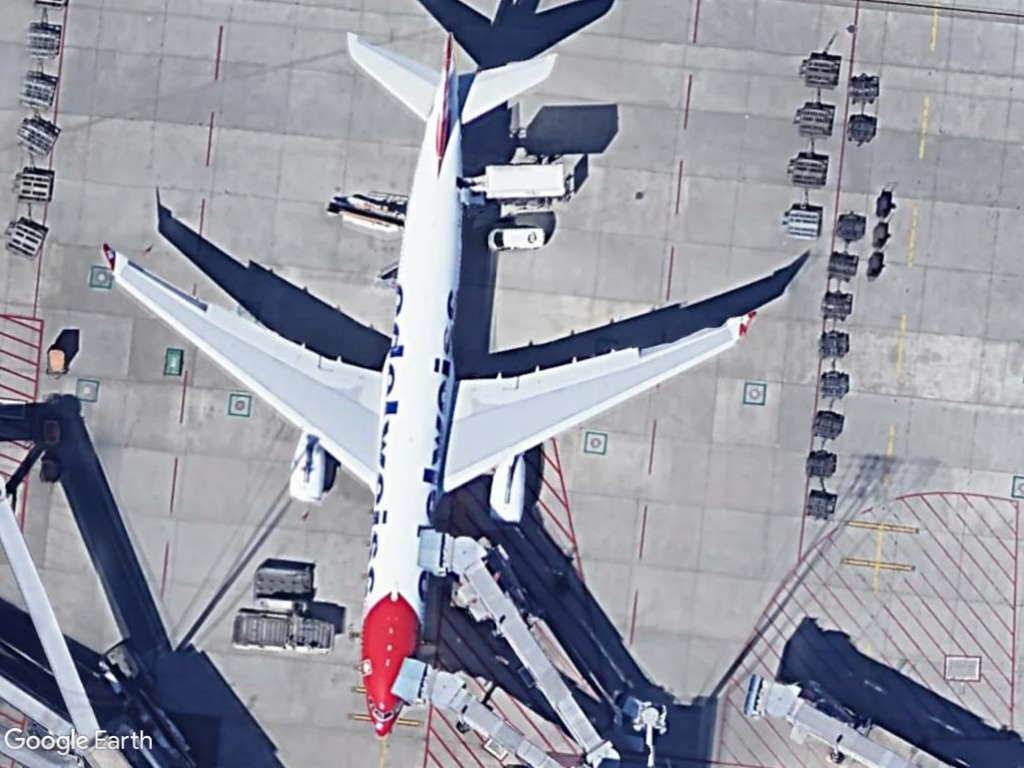airliner: (103, 20, 759, 737)
truck: (462, 161, 572, 204)
